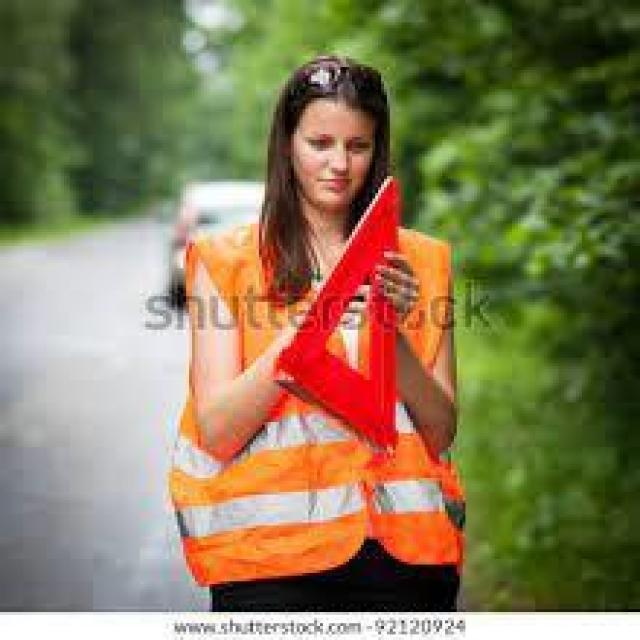safety_helmet: (163, 227, 472, 591)
